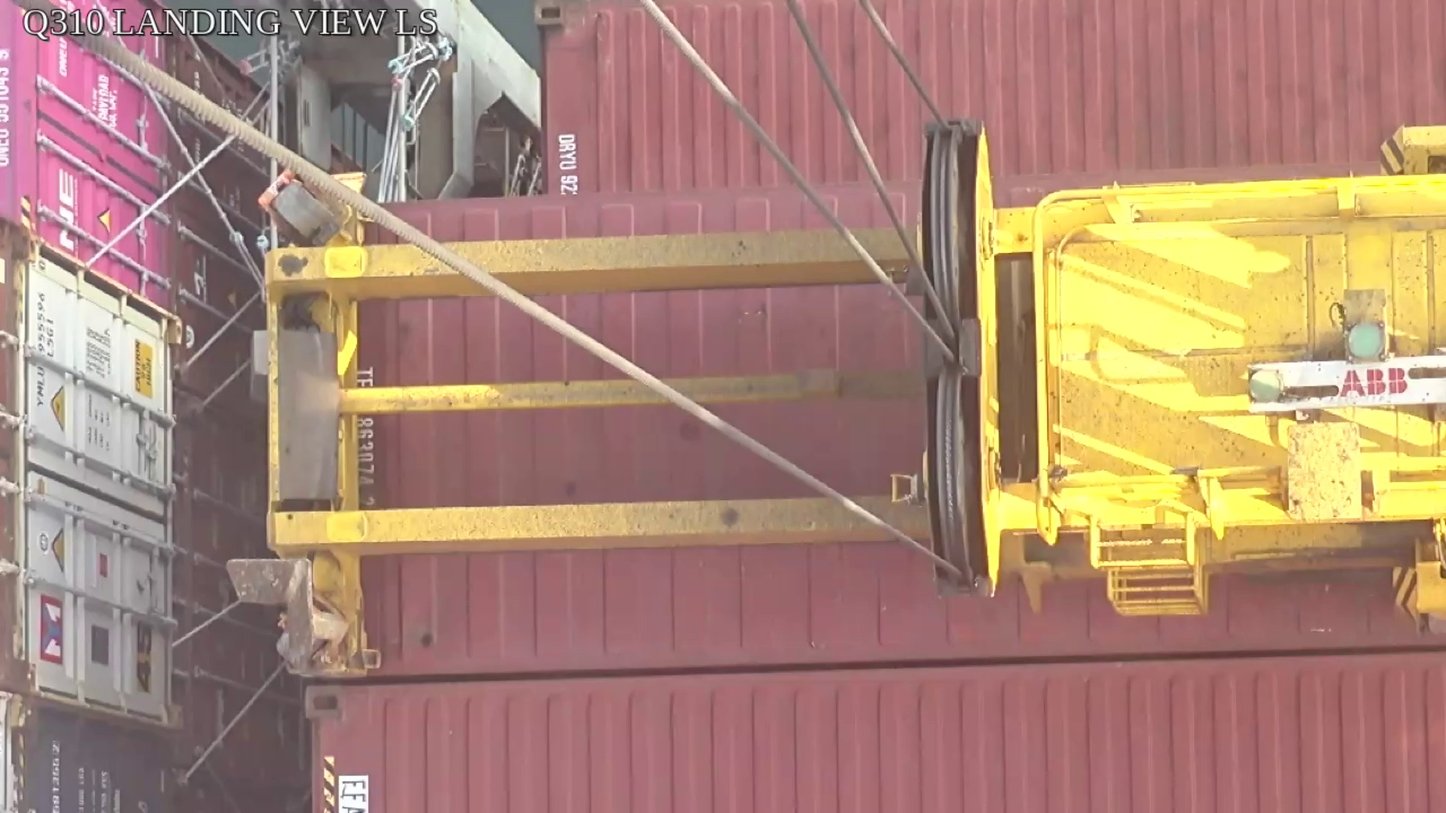aa: (916, 119, 1002, 604)
